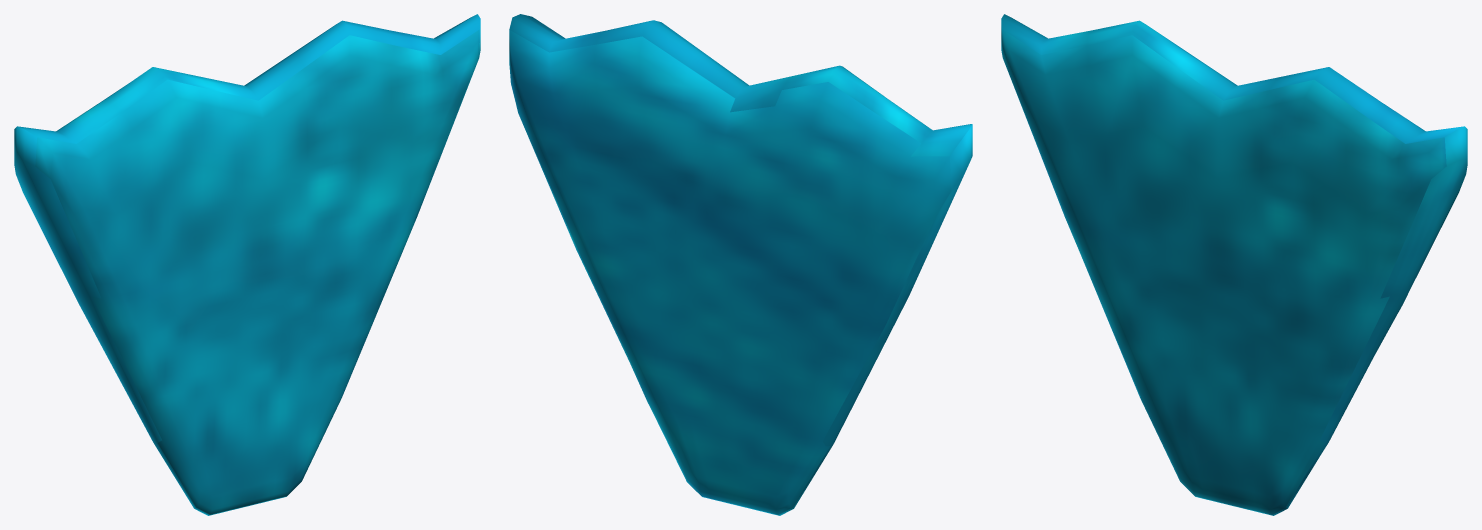
Rendered from OtherFin2.fbx.
3 renders of one model, left to right at view 1: azimuth 30°, elevation 25°; view 2: azimuth 150°, elevation 25°; view 3: azimuth 330°, elevation 25°, orthographic.
Visible parts, largest first — view 1: Cube.004; view 2: Cube.004; view 3: Cube.004.
Part boxes in pixels (x1,y1,x2,y2): Cube.004: (14, 14, 480, 515); Cube.004: (509, 14, 972, 515); Cube.004: (1001, 14, 1467, 515).
Bounding box in the file's own units: 77.78 × 74.47 × 9.83.
